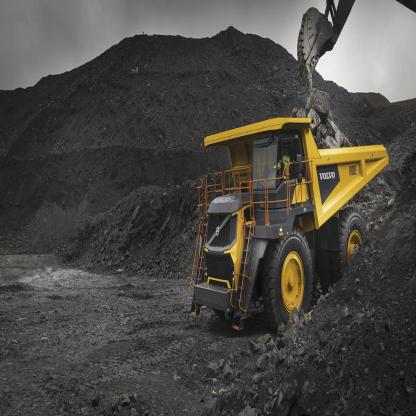dump_truck: (182, 104, 394, 326)
